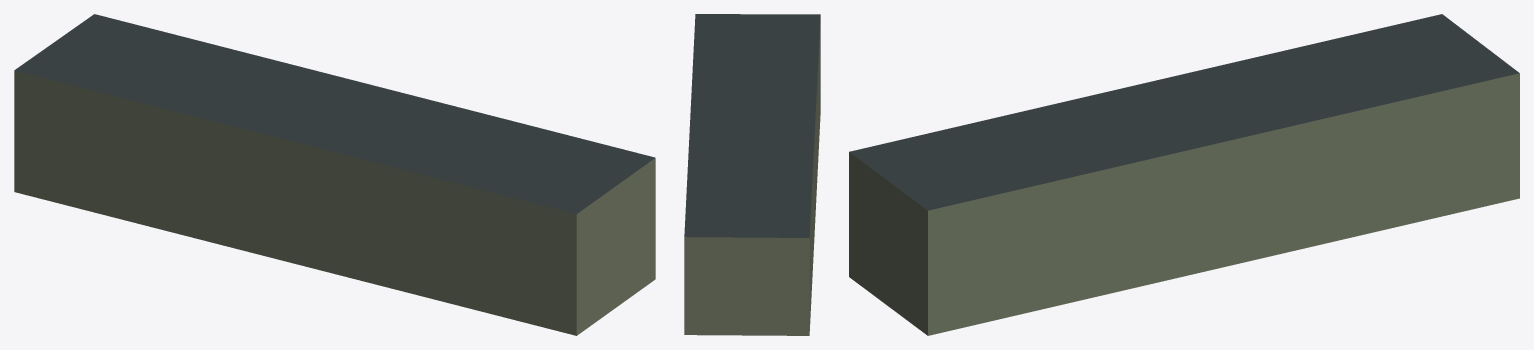
Rendered from nyc-1016037-0.glb.
The picture shows the model from 3 angles, left to right: view 1: azimuth 30°, elevation 25°; view 2: azimuth 150°, elevation 25°; view 3: azimuth 270°, elevation 25°; orthographic projection. The views are drawn at different scales.
Parts seen in each view (by area): view 1: nyc-1016037-0; view 2: nyc-1016037-0; view 3: nyc-1016037-0.
Part boxes in pixels (x1=…): nyc-1016037-0: x1=14, y1=14, x2=655, y2=335; nyc-1016037-0: x1=684, y1=14, x2=820, y2=335; nyc-1016037-0: x1=849, y1=14, x2=1519, y2=335.
Bounding box in the file's own units: 19.3 × 5.73 × 27.81.
